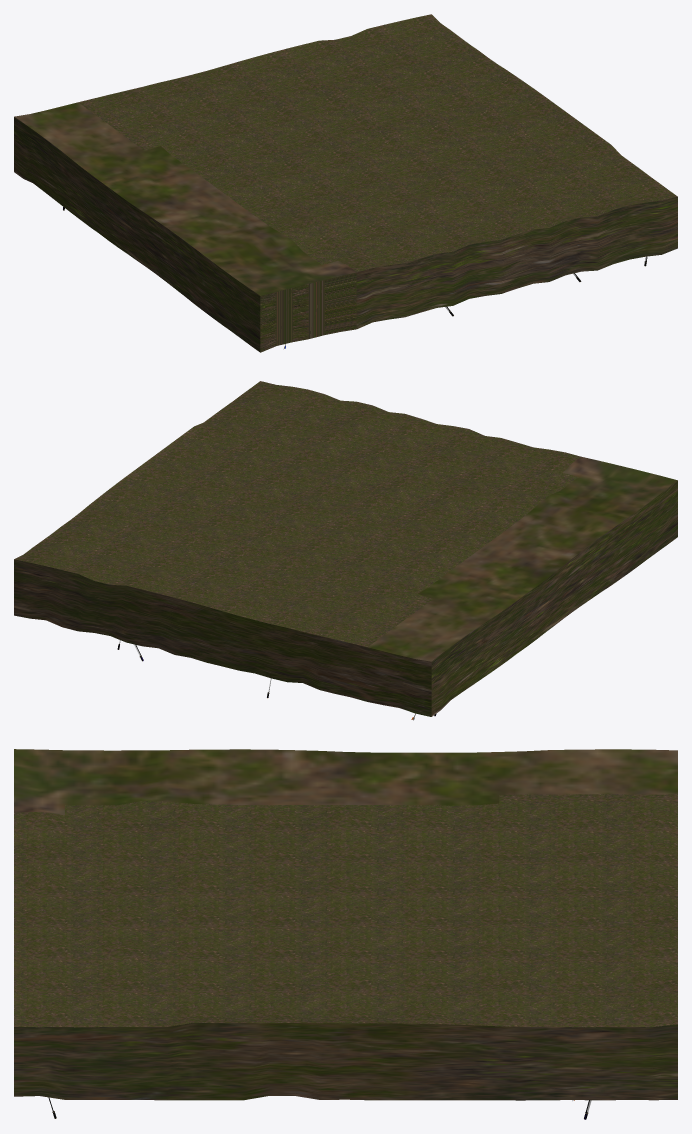
Rendered from Battle scene2.fbx.
3 views of the same model, one above another, from view 1: azimuth 30°, elevation 25°; view 2: azimuth 150°, elevation 25°; view 3: azimuth 270°, elevation 25° (orthographic). The views are drawn at different scales.
Parts seen in each view (by area): view 1: pasted__pasted__pasted__polySurface23; view 2: pasted__pasted__pasted__polySurface23; view 3: pasted__pasted__pasted__polySurface23.
Boxes of the visible parts, <box> form: pasted__pasted__pasted__polySurface23: <box>14,14,677,352</box>; pasted__pasted__pasted__polySurface23: <box>14,381,677,720</box>; pasted__pasted__pasted__polySurface23: <box>14,749,677,1119</box>.
Bounding box in the file's own units: 6438 × 1226 × 6580.
